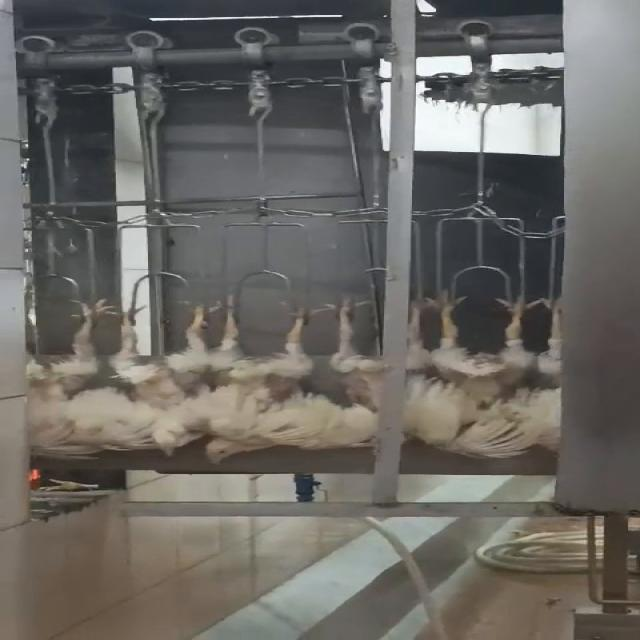chicken: (206, 297, 344, 468), (404, 284, 534, 462), (2, 296, 116, 466), (110, 301, 224, 460), (322, 286, 389, 454), (535, 276, 576, 459)
